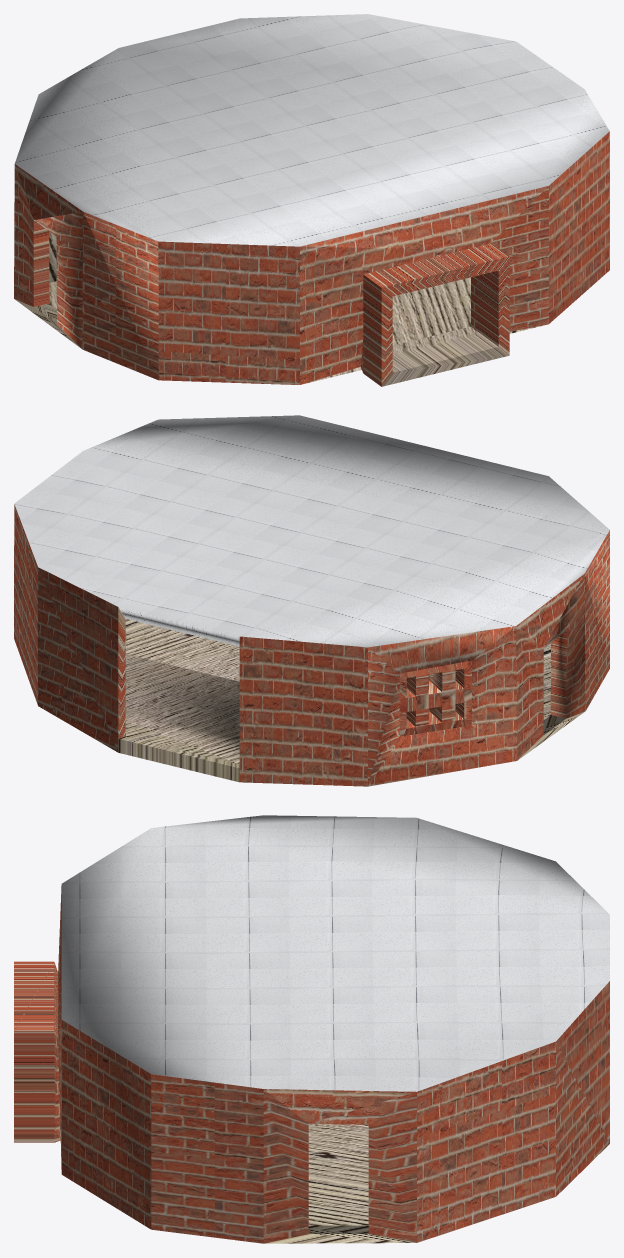
File: atrium-test.glb
The picture shows the model from 3 angles, top to bottom: view 1: azimuth 30°, elevation 25°; view 2: azimuth 150°, elevation 25°; view 3: azimuth 270°, elevation 25°; orthographic projection. The views are drawn at different scales.
Parts seen in each view (by area): view 1: Cube.004-col; view 2: Cube.004-col; view 3: Cube.004-col.
Boxes of the visible parts, x1=… form: Cube.004-col: x1=14, y1=14, x2=609, y2=386; Cube.004-col: x1=14, y1=415, x2=609, y2=786; Cube.004-col: x1=14, y1=815, x2=609, y2=1243.
Size of the model in its own units: 18.43 by 5.04 by 16.68.
Materials: 3 (3 with a texture image).
